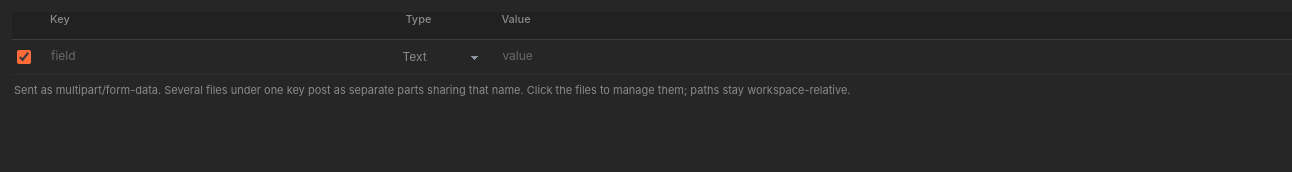
Test: FormDataEditor › appends a fresh row once the last row is used
Type "title" into the field named "Field name".
click(217, 57); type("title")  # box top-left (42, 44), bottom-right (391, 70)
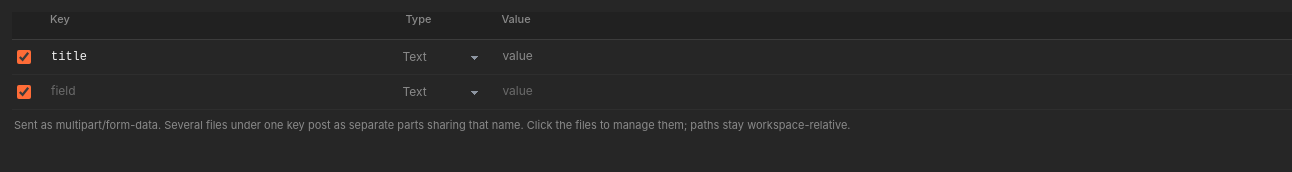
Check: the number of fields named "Field name" is 2, box top-left (42, 44), bottom-right (391, 70); top-left (42, 79), bottom-right (391, 105)
